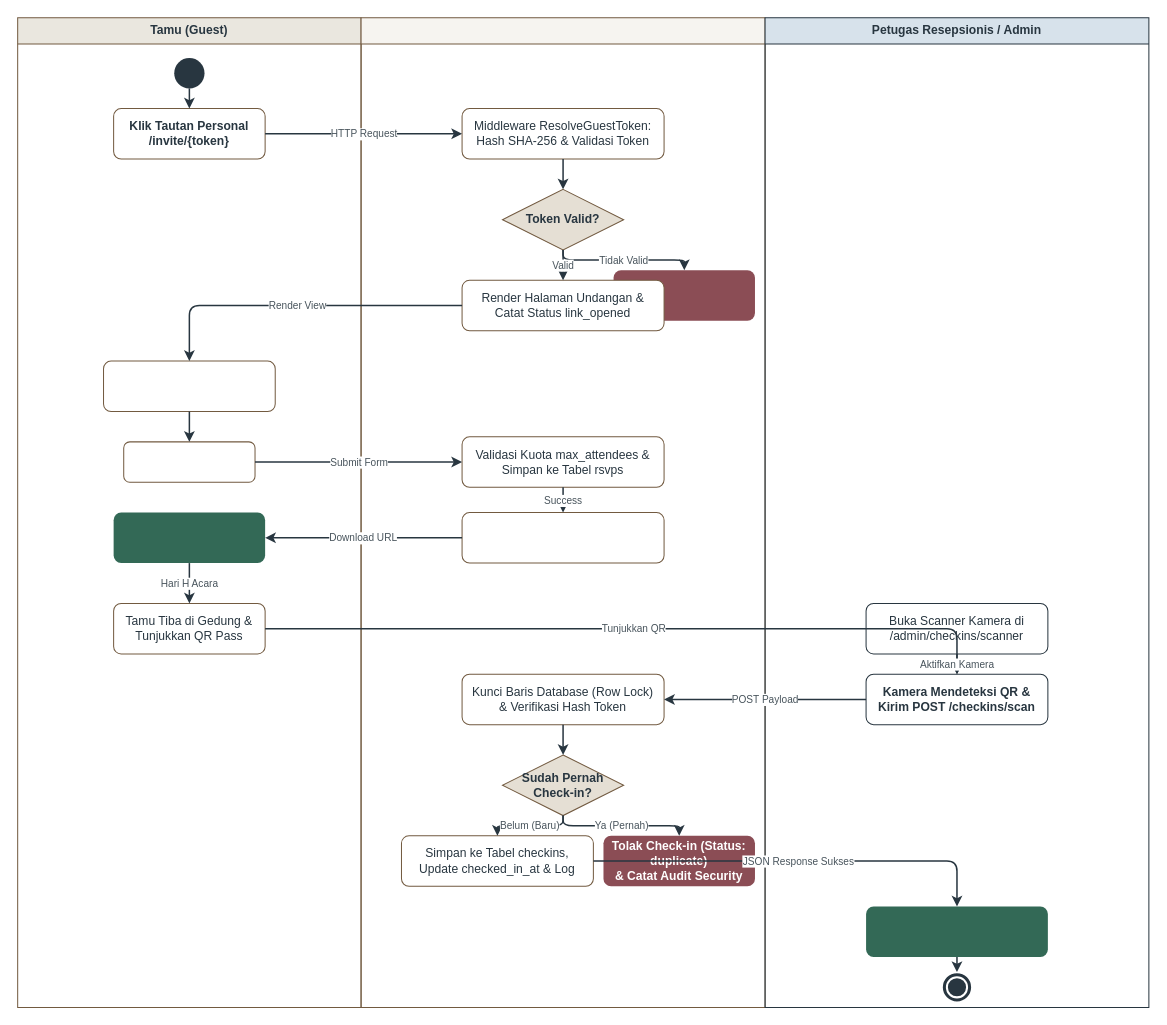
The diagram is 1167 pixels wide and 1025 high, and some of its shapes have lost their labels. The shapes that lost their labels are listed below. From the top down, each one's box as (x1, y1, x2, y2) in pixels, then its label:
(613, 269, 755, 321): Tampilkan Halaman 404 Token Invalid / Expired
(103, 360, 275, 412): Buka Form RSVP & Isi Kehadiran (Status, Jumlah Tamu, Catatan)
(123, 441, 255, 482): Kirim POST /rsvp
(360, 17, 765, 1007): Sistem Backend VOWSPACE
(113, 512, 265, 563): Simpan / Unduh QR Pass ke Ponsel Tamu
(461, 512, 664, 563): Generate Digital QR Pass via Simple-QRCode PNG/SVG
(865, 905, 1048, 957): Layar Scanner Menampilkan Nama Tamu & Nomor Meja
